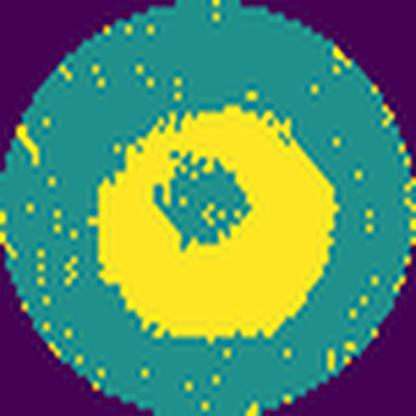Donut: (92, 104, 339, 347)
